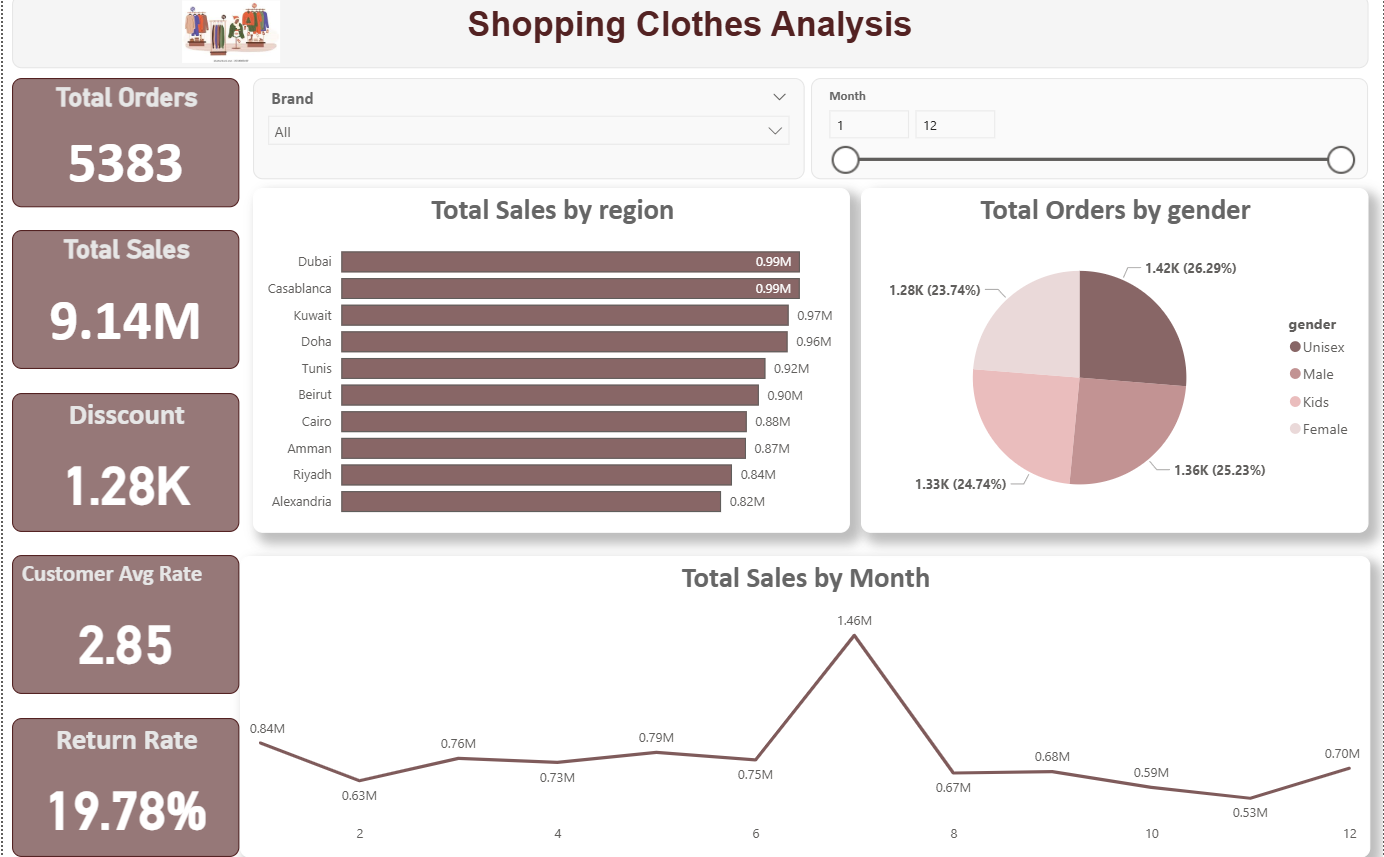

The page's visual inventory and layout, read from the dashboard file:
{"tool":"powerbi","page":{"name":"Sales OverView","canvas":[1280,800],"ordinal":0},"visuals":[{"type":"textbox","box":[8.8,0,1258.6,68.1],"z":0},{"type":"card","title":"Total Orders","fields":{"Values":["DAX.Total Orders"]},"box":[8.8,76.8,211.1,119.6],"z":1000},{"type":"card","title":"Total Sales","fields":{"Values":["DAX.Total Sales "]},"box":[8.8,218.1,211.1,129.4],"z":2000},{"type":"card","title":"Disscount","fields":{"Values":["DAX.Total Discount"]},"box":[8.8,369.1,211.1,129.4],"z":3000},{"type":"card","title":"Customer Avg Rate","fields":{"Values":["DAX.Avg Rating"]},"box":[8.8,520.1,211.1,129.4],"z":4000},{"type":"card","title":"Return Rate","fields":{"Values":["DAX.Return Rate"]},"box":[8.8,670.6,211.1,129.4],"z":5000},{"type":"clusteredBarChart","fields":{"Category":["Cleaned_Clothes.region"],"Y":["DAX.Total Sales "]},"box":[232.5,179,554.4,320],"z":6000},{"type":"lineChart","fields":{"Y":["DAX.Total Sales "],"Category":["Cleaned_Clothes.Month"]},"box":[219.8,520.4,1048.5,280.1],"z":7000},{"type":"pieChart","fields":{"Category":["Cleaned_Clothes.gender"],"Y":["DAX.Total Orders"]},"box":[796.6,179,470.8,320],"z":8000},{"type":"slicer","fields":{"Values":["Cleaned_Clothes.brand"]},"box":[232.5,76.8,511.6,94.3],"z":9000},{"type":"slicer","fields":{"Values":["Cleaned_Clothes.Month"]},"box":[749.9,76.8,517.4,94.3],"z":10000},{"type":"image","box":[62.2,0,299.6,68.1],"z":11000}]}

Visuals, with their boxes in screenshot pixels (x1, y1, x2, y2), scaled from the page's 1280x800 canvas onto the 1384x857 screenshot:
textbox: detection(10, 0, 1370, 73)
"Total Orders" card: detection(10, 82, 238, 210)
"Total Sales" card: detection(10, 234, 238, 372)
"Disscount" card: detection(10, 395, 238, 534)
"Customer Avg Rate" card: detection(10, 557, 238, 696)
"Return Rate" card: detection(10, 718, 238, 856)
clusteredBarChart - Cleaned_Clothes.region x DAX.Total Sales : detection(251, 192, 851, 535)
lineChart - DAX.Total Sales  x Cleaned_Clothes.Month: detection(238, 557, 1371, 856)
pieChart - Cleaned_Clothes.gender x DAX.Total Orders: detection(861, 192, 1370, 535)
slicer - Cleaned_Clothes.brand: detection(251, 82, 805, 183)
slicer - Cleaned_Clothes.Month: detection(811, 82, 1370, 183)
image: detection(67, 0, 391, 73)
